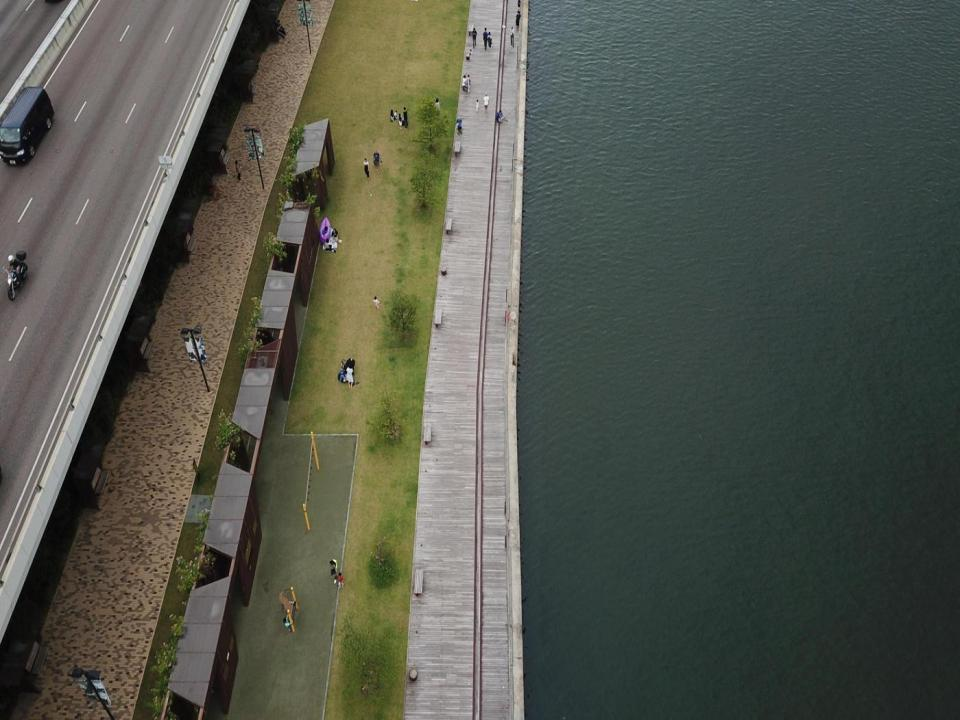van: (0, 85, 54, 168)
